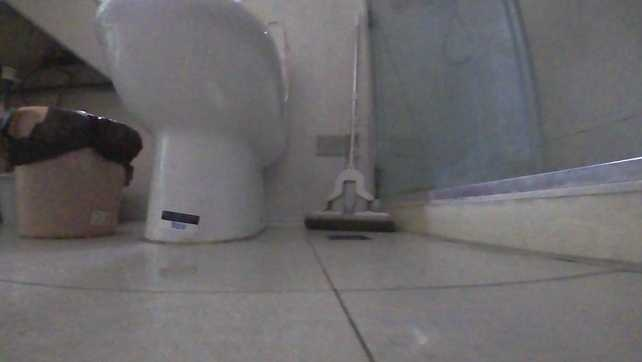toilet: (92, 0, 292, 247)
trash_can: (6, 102, 139, 241)
